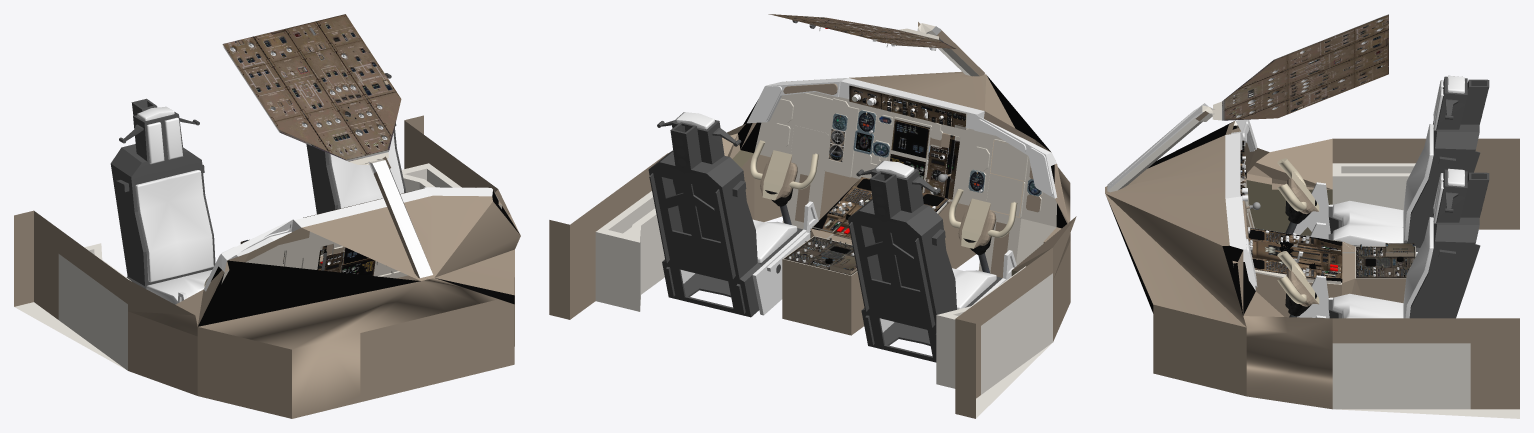
File: free_plane_cockpit.glb
3 renders of one model, left to right at view 1: azimuth 30°, elevation 25°; view 2: azimuth 150°, elevation 25°; view 3: azimuth 270°, elevation 25°, orthographic. The views are drawn at different scales.
Visible parts, largest first — view 1: Object_20, Object_9, Object_21, Object_32, Object_12, Object_31, Object_14, Object_33, Object_27, Object_42; view 2: Object_32, Object_20, Object_33, Object_31, Object_21, Object_27, Object_14, Object_34, Object_9, Object_46, Object_8, Object_12 (+1 smaller); view 3: Object_20, Object_31, Object_32, Object_21, Object_9, Object_14, Object_46, Object_12, Object_8, Object_5, Object_34, Object_33 (+1 smaller).
Part boxes in pixels (box(x1,y1,x2,y2)): Object_20: box(14, 80, 520, 418); Object_9: box(221, 14, 401, 161); Object_21: box(135, 106, 403, 304); Object_32: box(110, 73, 405, 289); Object_12: box(198, 190, 519, 326); Object_31: box(14, 159, 461, 370); Object_14: box(203, 160, 499, 291); Object_33: box(221, 152, 501, 283); Object_27: box(303, 190, 414, 275); Object_42: box(230, 42, 387, 153); Object_32: box(648, 112, 1002, 362); Object_20: box(549, 17, 1076, 418); Object_33: box(755, 23, 1056, 275); Object_31: box(595, 27, 1052, 418); Object_21: box(676, 112, 1016, 332); Object_27: box(849, 85, 965, 199); Object_14: box(747, 26, 1057, 198); Object_34: box(750, 140, 1017, 248); Object_9: box(768, 14, 956, 49); Object_46: box(812, 177, 948, 237); Object_8: box(784, 236, 857, 275); Object_12: box(738, 76, 1066, 263); Object_20: box(1105, 106, 1519, 409); Object_31: box(1107, 107, 1519, 418); Object_32: box(1328, 76, 1489, 318); Object_21: box(1293, 75, 1464, 318); Object_9: box(1222, 14, 1388, 120); Object_14: box(1107, 103, 1257, 290); Object_46: box(1248, 228, 1344, 282); Object_12: box(1107, 121, 1403, 315); Object_8: box(1356, 243, 1415, 278); Object_5: box(1246, 180, 1332, 235); Object_34: box(1277, 158, 1319, 303); Object_33: box(1202, 101, 1415, 284).
Size of the model in its own units: 144 by 96.47 by 127.
Materials: 43 (15 with a texture image).
